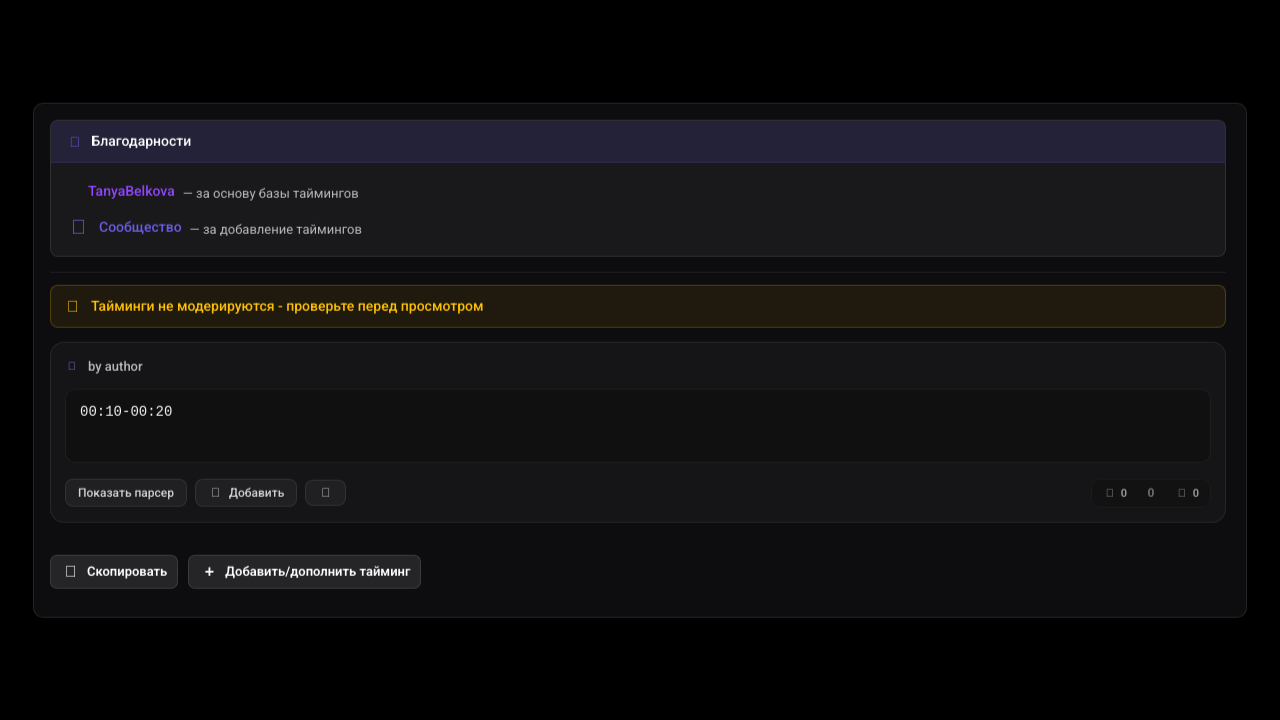
on-demand movie scene tools › does not overwrite a submitted vote with an earlier vote read
Click the 1st button "0".
click(1115, 493)  # box [1095,482,1135,503]
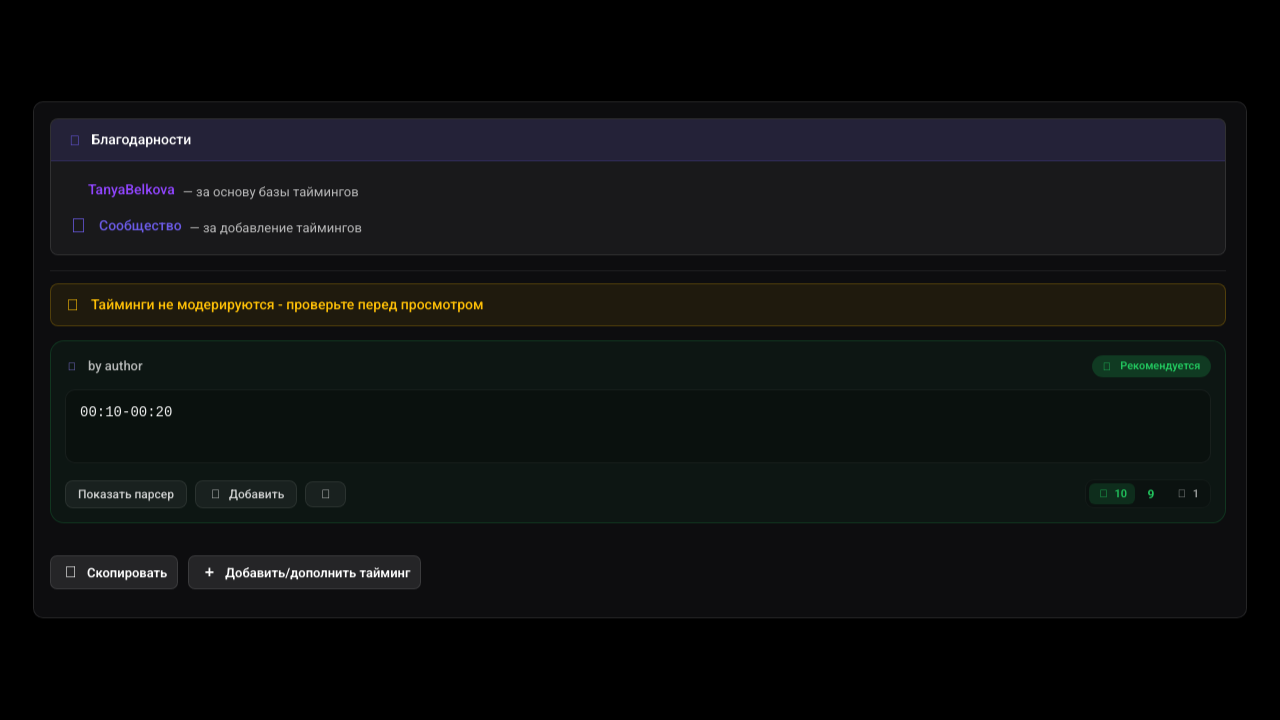
Result: the text "9" is shown at [1148,487,1154,501]
